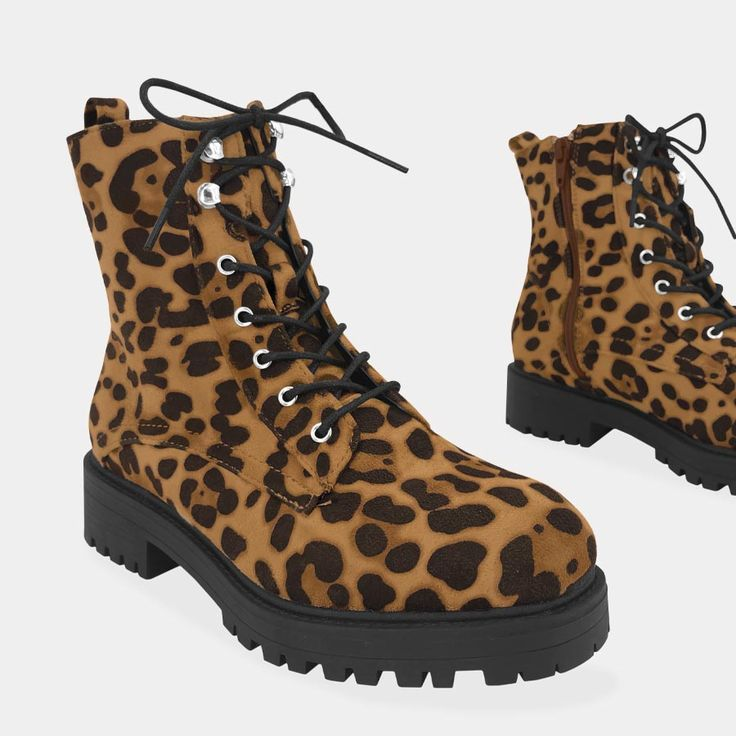gamuza: (60, 99, 736, 613)
